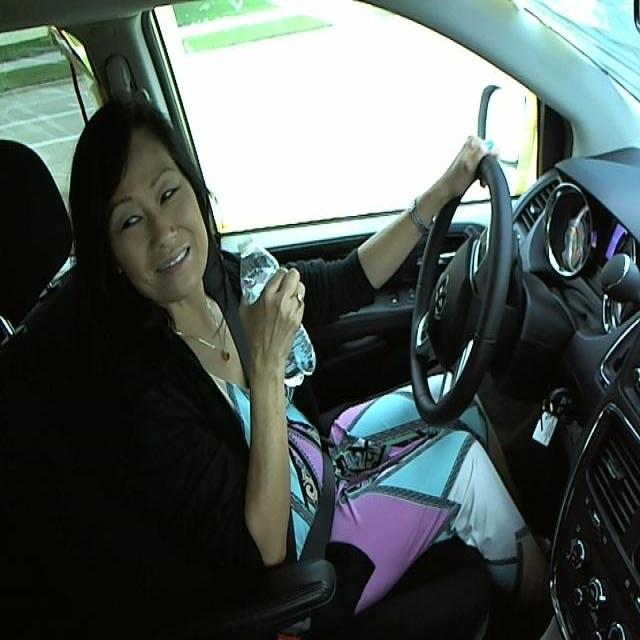Seatbelt: (229, 235, 317, 385)
